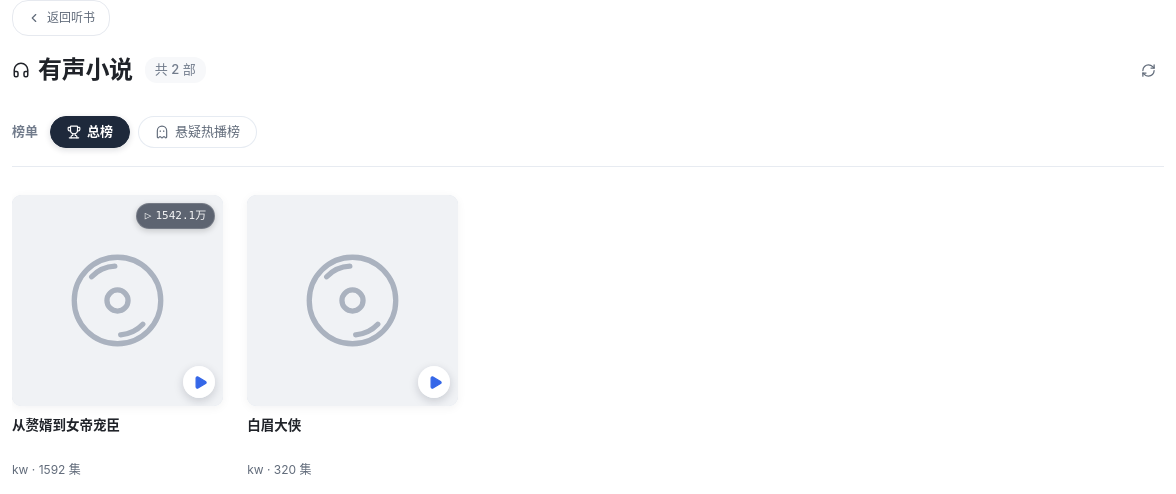
听书榜单页 › 展示子榜切换与专辑列表，专辑链接到章节页
The width and height of the screenshot is (1176, 494).
Check: the heading "有声小说" is shown, box [12, 52, 133, 88]
Check: the text "kw · 1592 集" is shown, box [12, 462, 81, 477]
Click the button "悬疑热播榜". click: (198, 132)
box: [138, 116, 257, 148]
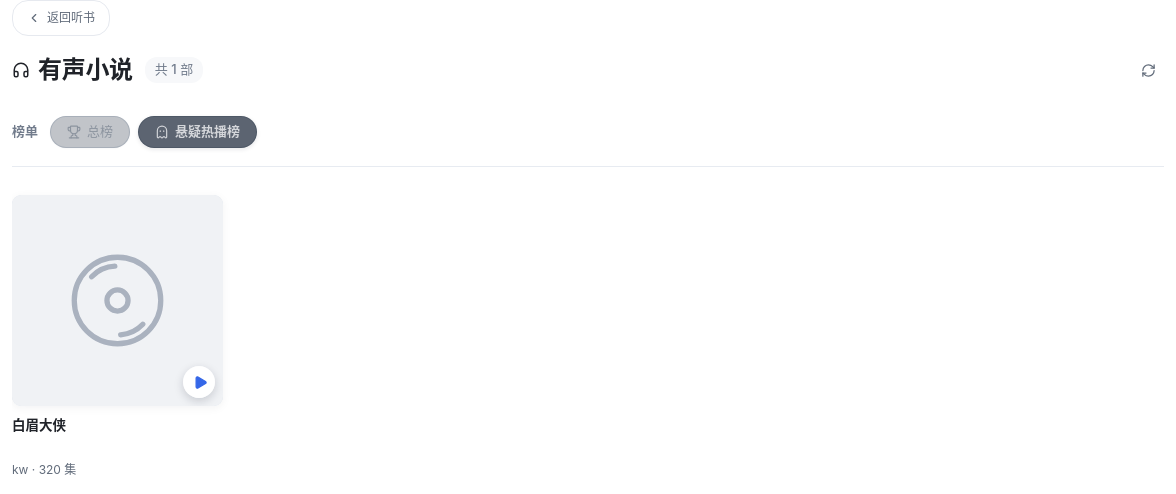
Check: the text "共 1 部" is shown, box [145, 57, 203, 83]
